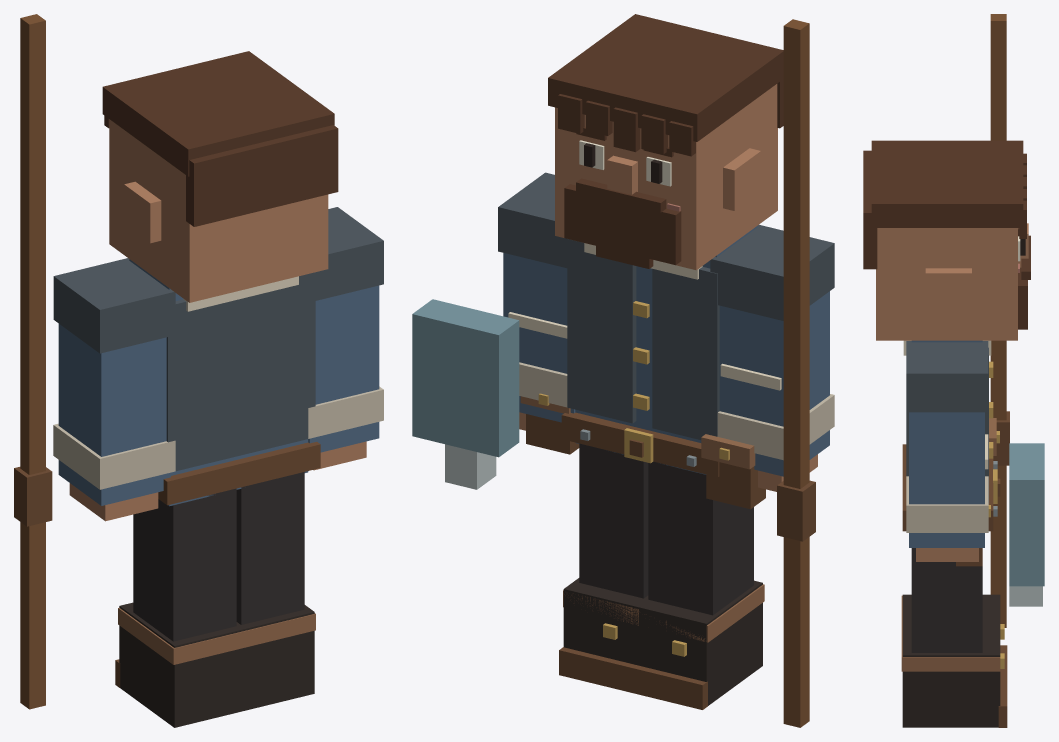
The model's file is fisherman.obj.
3 renders of one model, left to right at view 1: azimuth 30°, elevation 25°; view 2: azimuth 150°, elevation 25°; view 3: azimuth 270°, elevation 25°, orthographic. The views are drawn at different scales.
Visible parts, largest first — view 1: head, body, right_arm, right_leg, equipment_right, left_leg, left_arm; view 2: head, body, right_leg, right_arm, equipment_right, left_leg, equipment_left, left_arm; view 3: head, left_arm, left_leg, equipment_right, equipment_left, body, right_leg.
Part boxes in pixels (bbox=[...]): head: bbox=[102, 51, 338, 302]; body: bbox=[129, 259, 320, 506]; right_arm: bbox=[53, 258, 175, 521]; right_leg: bbox=[115, 488, 248, 727]; equipment_right: bbox=[14, 14, 52, 709]; left_leg: bbox=[236, 472, 315, 711]; left_arm: bbox=[308, 207, 383, 470]; head: bbox=[548, 14, 783, 270]; body: bbox=[520, 226, 765, 509]; right_leg: bbox=[628, 461, 764, 709]; right_arm: bbox=[710, 224, 834, 491]; equipment_right: bbox=[777, 19, 815, 727]; left_leg: bbox=[559, 443, 648, 693]; equipment_left: bbox=[412, 299, 519, 489]; left_arm: bbox=[498, 172, 575, 430]; head: bbox=[863, 140, 1030, 340]; left_arm: bbox=[906, 341, 988, 561]; left_leg: bbox=[901, 548, 1007, 727]; equipment_right: bbox=[990, 14, 1009, 627]; equipment_left: bbox=[1009, 443, 1044, 606]; body: bbox=[902, 340, 1000, 566]; right_leg: bbox=[901, 594, 1007, 676].
Size of the model in its own units: 1.31 by 2.38 by 0.6387.
